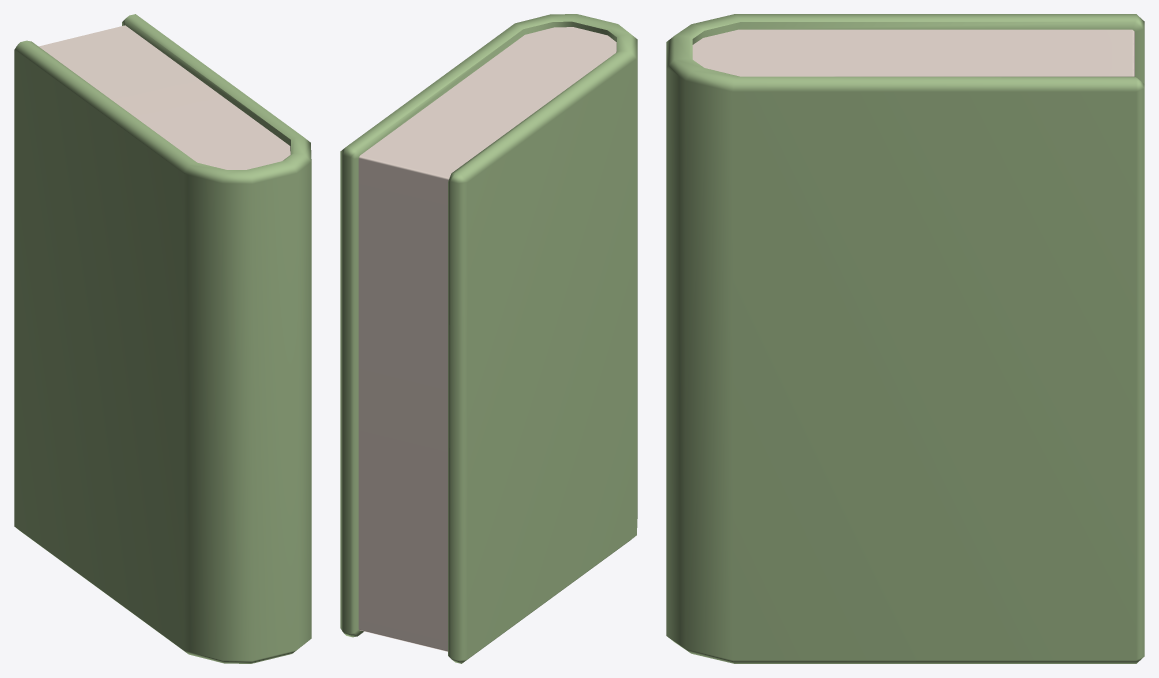
File: Book_8.glb
The picture shows the model from 3 angles, left to right: view 1: azimuth 30°, elevation 25°; view 2: azimuth 150°, elevation 25°; view 3: azimuth 270°, elevation 25°; orthographic projection. The views are drawn at different scales.
Parts seen in each view (by area): view 1: Book_8; view 2: Book_8; view 3: Book_8.
Boxes of the visible parts, x1=… form: Book_8: x1=14, y1=14, x2=311, y2=663; Book_8: x1=340, y1=14, x2=637, y2=663; Book_8: x1=666, y1=14, x2=1144, y2=663.
Bounding box in the file's own units: 0.0876 × 0.3221 × 0.2393.
1 material, 1 textured.
